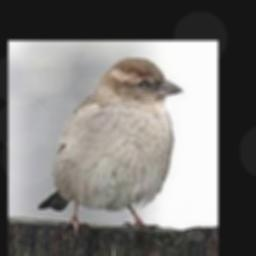Sparrow: (36, 57, 183, 238)
